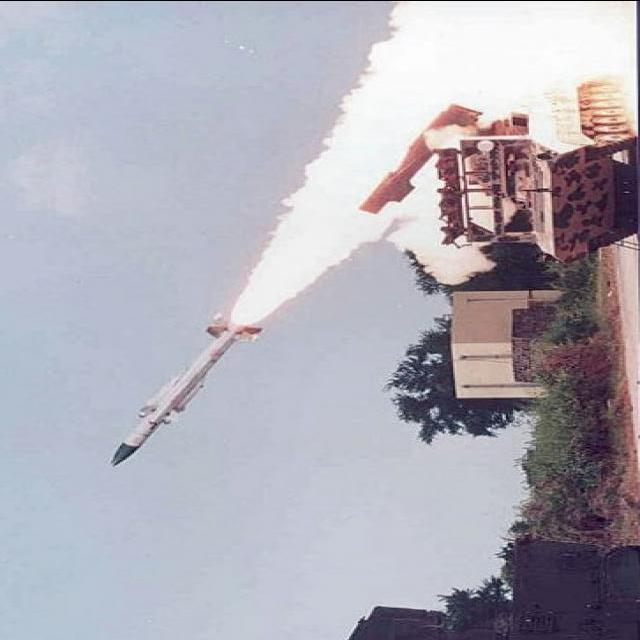missile: (107, 319, 258, 469)
